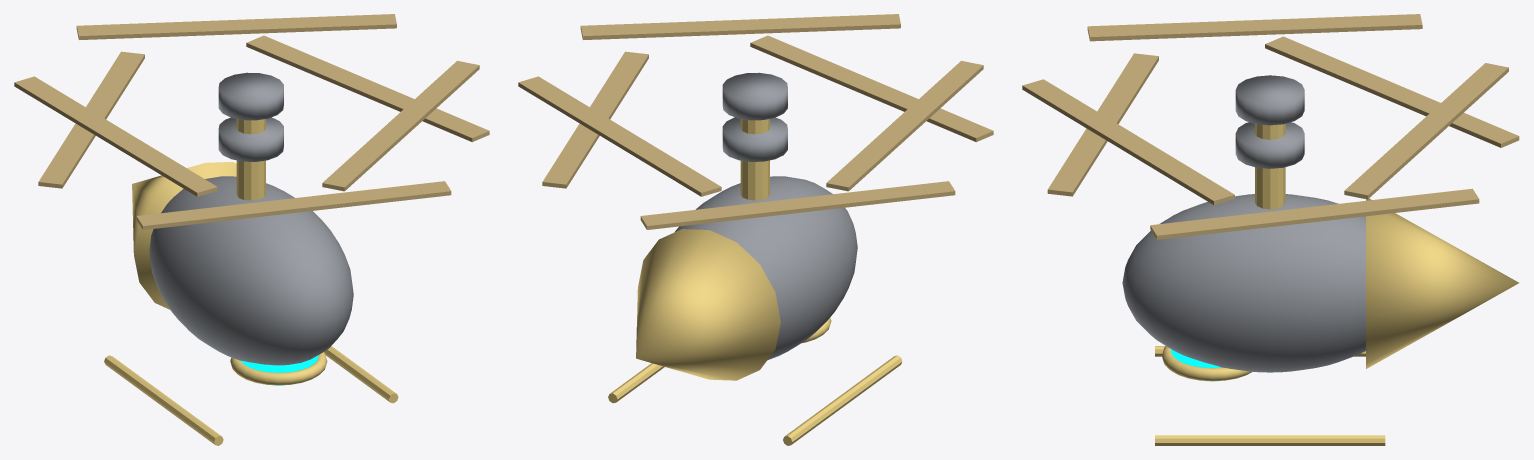
Rendered from enemy_rotor_drone.glb.
3 views of the same model, side by side, from view 1: azimuth 30°, elevation 25°; view 2: azimuth 150°, elevation 25°; view 3: azimuth 270°, elevation 25° (orthographic). The views are drawn at different scales.
Parts seen in each view (by area): view 1: Sphere, Cube.004, Cube.002, Cube.005, Cube.003, Cube, Cube.001, Cone, Cylinder.002, Cylinder.001, Cylinder.003, Cylinder (+3 smaller); view 2: Cone, Sphere, Cube.003, Cube.001, Cube.004, Cube.005, Cube.002, Cube, Cylinder.002, Cylinder.001, Cylinder.003, Cylinder (+1 smaller); view 3: Sphere, Cone, Cube.005, Cube, Cube.003, Cube.004, Cube.001, Cube.002, Cylinder.002, Cylinder.004, Cylinder.001, Cylinder (+1 smaller).
Part boxes in pixels (<box>): Sphere: <box>149,176,353,365</box>; Cube.004: <box>76,14,396,39</box>; Cube.002: <box>136,181,451,229</box>; Cube.005: <box>14,76,217,196</box>; Cube.003: <box>322,60,479,191</box>; Cube: <box>246,35,489,141</box>; Cube.001: <box>38,51,144,188</box>; Cone: <box>132,162,236,309</box>; Cylinder.002: <box>218,72,283,120</box>; Cylinder.001: <box>218,117,283,161</box>; Cylinder.003: <box>104,355,223,445</box>; Cylinder: <box>236,119,265,200</box>; Cone: <box>636,229,780,380</box>; Sphere: <box>675,176,857,359</box>; Cube.003: <box>580,14,900,39</box>; Cube.001: <box>640,181,955,229</box>; Cube.004: <box>518,76,721,196</box>; Cube.005: <box>826,60,983,191</box>; Cube.002: <box>750,35,993,141</box>; Cube: <box>542,51,648,188</box>; Cylinder.002: <box>722,72,787,120</box>; Cylinder.001: <box>722,117,787,161</box>; Cylinder.003: <box>783,355,902,445</box>; Cylinder: <box>740,119,769,200</box>; Sphere: <box>1122,194,1365,372</box>; Cone: <box>1366,198,1518,368</box>; Cube.005: <box>1087,14,1422,41</box>; Cube: <box>1150,188,1479,239</box>; Cube.003: <box>1022,79,1234,204</box>; Cube.004: <box>1344,63,1508,199</box>; Cube.001: <box>1265,36,1519,147</box>; Cube.002: <box>1047,53,1158,196</box>; Cylinder.002: <box>1235,75,1304,125</box>; Cylinder.004: <box>1155,435,1385,445</box>; Cylinder.001: <box>1235,122,1304,168</box>; Cylinder: <box>1255,123,1285,209</box>.
Bounding box in the file's own units: 2.57 × 1.79 × 2.59.
